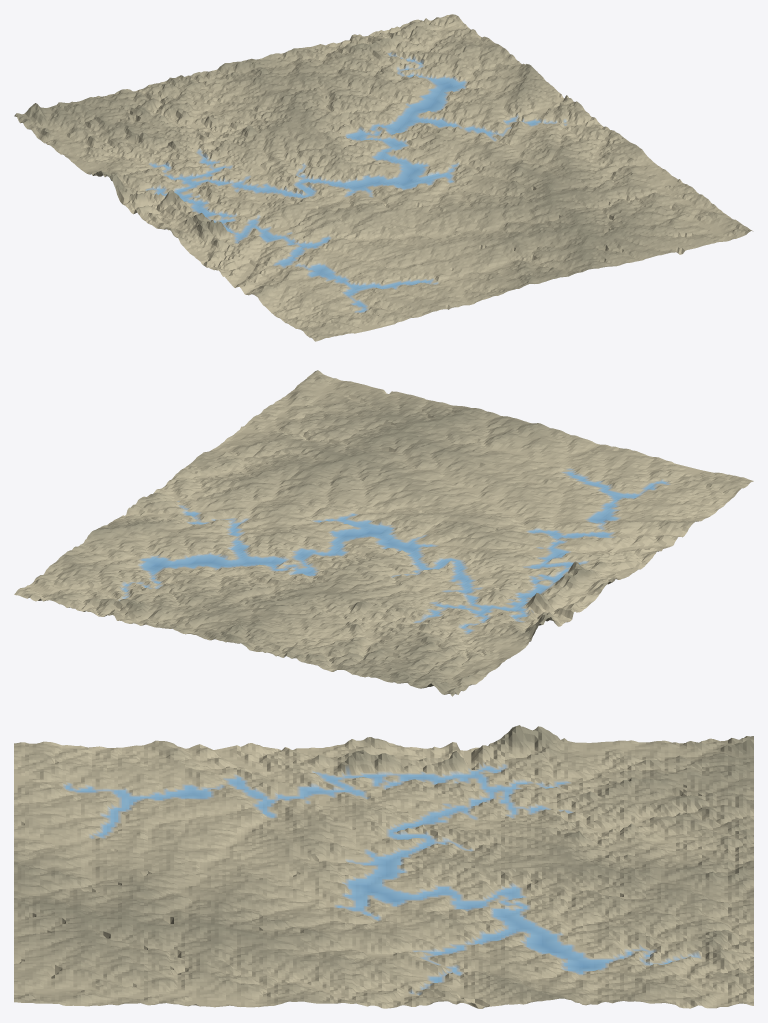
File: lake_allatoona_ga.glb
The picture shows the model from 3 angles, top to bottom: view 1: azimuth 30°, elevation 25°; view 2: azimuth 150°, elevation 25°; view 3: azimuth 270°, elevation 25°; orthographic projection. The views are drawn at different scales.
Visible parts, largest first — view 1: terrain, water; view 2: terrain, water; view 3: terrain, water.
Boxes of the visible parts, box(x1,y1,x2,y2) form: terrain: box(14, 14, 753, 341); water: box(152, 59, 539, 312); terrain: box(14, 370, 753, 696); water: box(123, 472, 665, 632); terrain: box(14, 725, 753, 1008); water: box(66, 766, 671, 982).
Size of the model in its own units: 20312 by 981 by 24182.
